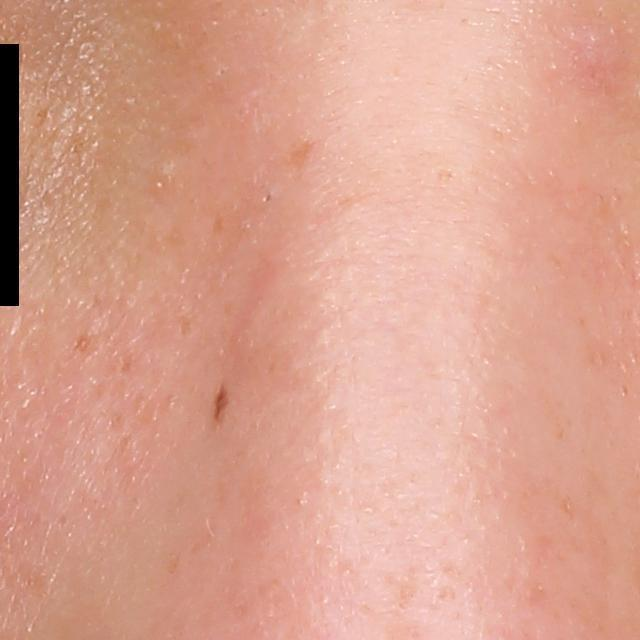melasma: (286, 136, 322, 188), (69, 326, 107, 361)
nevus: (210, 382, 233, 424)
